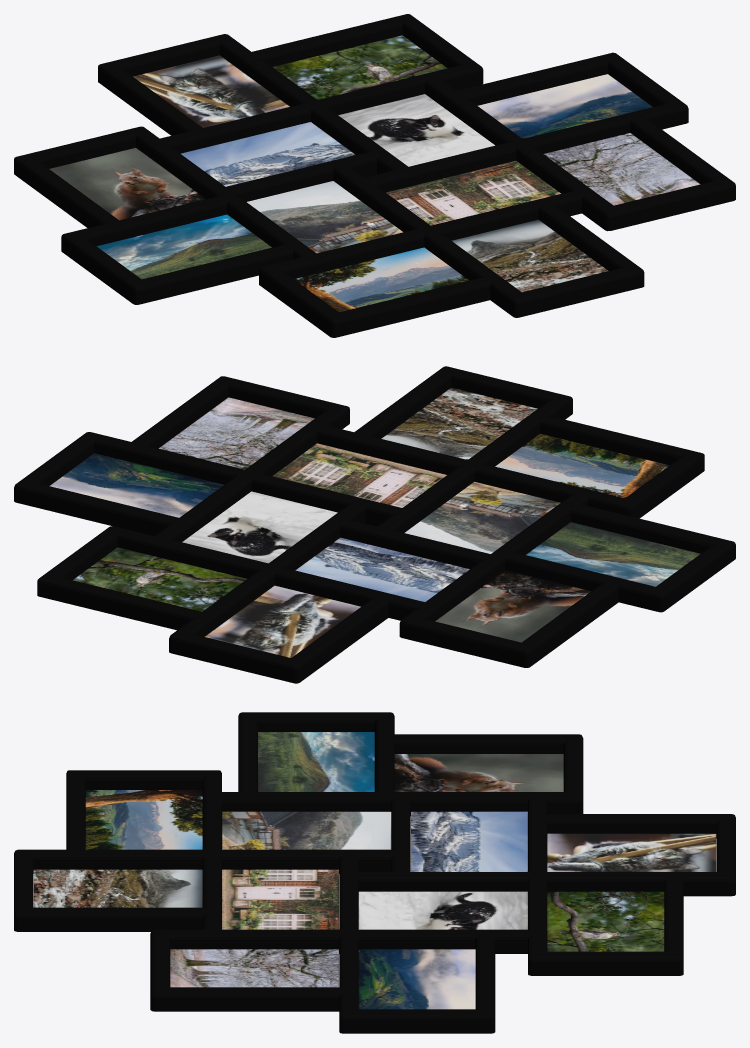
The model's file is collage-transformed.glb.
3 views of the same model, one above another, from view 1: azimuth 30°, elevation 25°; view 2: azimuth 150°, elevation 25°; view 3: azimuth 270°, elevation 25° (orthographic). The views are drawn at different scales.
Visible parts, largest first — view 1: Object_7, Object_11; view 2: Object_7, Object_11; view 3: Object_11, Object_7.
Part boxes in pixels (left/top/right/bottom): Object_7: left=14, top=14, right=735, bottom=337; Object_11: left=49, top=35, right=700, bottom=312; Object_7: left=14, top=366, right=735, bottom=683; Object_11: left=49, top=387, right=700, bottom=657; Object_11: left=33, top=732, right=716, bottom=1009; Object_7: left=14, top=712, right=735, bottom=1033.
Size of the model in its own units: 0.555 by 0.0149 by 0.555.
4 materials, 1 textured.
